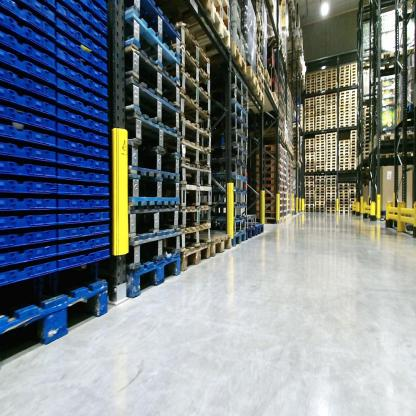pallet: (1, 278, 111, 362), (123, 14, 184, 87), (122, 74, 182, 136), (122, 44, 180, 108), (123, 250, 186, 302), (124, 0, 183, 51), (130, 160, 182, 213), (125, 228, 184, 274), (125, 106, 182, 152), (184, 7, 232, 56), (130, 202, 180, 243), (179, 22, 211, 85), (126, 141, 181, 177), (204, 40, 249, 79), (180, 108, 213, 154), (185, 48, 214, 98), (182, 67, 212, 113), (167, 221, 215, 249), (205, 141, 251, 170), (178, 180, 215, 211), (178, 156, 214, 187), (180, 91, 210, 128), (179, 196, 211, 230), (177, 241, 212, 269), (231, 86, 268, 110), (211, 114, 247, 138), (219, 101, 250, 128), (211, 213, 248, 235), (209, 173, 249, 193), (207, 157, 245, 178), (211, 201, 247, 223), (180, 143, 214, 166), (212, 129, 250, 149), (209, 185, 248, 203), (206, 230, 234, 255), (376, 48, 399, 74), (375, 131, 403, 150), (213, 1, 231, 30), (246, 63, 259, 94), (256, 142, 284, 156), (254, 148, 282, 162), (256, 126, 283, 138), (256, 206, 283, 218), (359, 52, 376, 71), (257, 3, 267, 35), (256, 183, 283, 194), (254, 197, 283, 207), (377, 149, 396, 164), (400, 42, 416, 59), (256, 177, 283, 187), (230, 231, 248, 246), (253, 73, 265, 95), (257, 158, 283, 168), (255, 172, 283, 181), (257, 192, 284, 201), (399, 1, 414, 17), (257, 165, 283, 174), (254, 205, 283, 213), (256, 33, 265, 58), (256, 64, 265, 88), (245, 211, 257, 229), (255, 54, 265, 75), (255, 14, 265, 35), (218, 1, 231, 16), (258, 218, 284, 225), (245, 226, 256, 242), (265, 67, 272, 89), (256, 27, 264, 45), (270, 94, 279, 110), (257, 44, 264, 64), (255, 224, 263, 235), (316, 119, 326, 127), (362, 151, 372, 158), (316, 86, 326, 93), (339, 64, 350, 70), (363, 118, 372, 125), (325, 132, 337, 137), (316, 102, 326, 108), (363, 128, 371, 135), (326, 174, 337, 179), (326, 177, 337, 182), (339, 139, 350, 144), (340, 68, 351, 73), (339, 76, 350, 81), (306, 78, 317, 83), (363, 143, 372, 149), (362, 107, 371, 113), (316, 133, 325, 139), (338, 186, 348, 191), (326, 185, 336, 190), (327, 97, 337, 102), (326, 83, 336, 88), (326, 80, 336, 85), (305, 99, 315, 104), (316, 106, 326, 111), (363, 123, 370, 130), (363, 132, 371, 138), (363, 115, 371, 121), (282, 148, 288, 156), (325, 201, 337, 205), (339, 84, 351, 88), (363, 140, 372, 145), (327, 123, 336, 128), (327, 77, 336, 82), (317, 76, 326, 81), (306, 72, 315, 77), (363, 156, 374, 160), (326, 184, 337, 188), (326, 189, 337, 193), (325, 198, 336, 202), (314, 175, 325, 179), (315, 152, 326, 156), (315, 169, 326, 173), (339, 71, 350, 75), (339, 73, 350, 77), (339, 91, 350, 95), (340, 97, 351, 101), (339, 100, 350, 104), (339, 103, 350, 107), (339, 115, 350, 119), (326, 117, 337, 121), (326, 93, 337, 97), (326, 86, 337, 90), (326, 71, 337, 75), (305, 89, 316, 93), (315, 101, 326, 105), (282, 192, 288, 199), (283, 167, 287, 177), (339, 199, 349, 203), (315, 207, 325, 211), (315, 201, 325, 205), (305, 167, 315, 171), (305, 161, 315, 165), (305, 138, 315, 142), (315, 154, 325, 158), (315, 160, 325, 164), (339, 164, 349, 168), (339, 152, 349, 156), (339, 106, 349, 110), (340, 110, 350, 114), (339, 112, 349, 116), (326, 105, 336, 109), (327, 69, 337, 73), (316, 71, 326, 75), (316, 73, 326, 77), (304, 106, 314, 110), (315, 127, 325, 131), (315, 122, 325, 126), (316, 115, 326, 119), (316, 95, 326, 99), (339, 211, 351, 214), (315, 185, 327, 188), (315, 182, 327, 185), (305, 175, 314, 179), (305, 187, 314, 191), (305, 201, 314, 205), (304, 207, 316, 210), (304, 210, 316, 213), (305, 144, 314, 148), (340, 158, 349, 162), (327, 126, 336, 130), (327, 111, 336, 115), (327, 75, 336, 79), (306, 83, 315, 87), (307, 76, 316, 80), (305, 112, 314, 116), (363, 136, 370, 141), (363, 112, 370, 117), (283, 216, 288, 223), (283, 211, 288, 218), (283, 205, 288, 212), (338, 183, 349, 186), (315, 146, 326, 149), (315, 149, 326, 152), (315, 166, 326, 169), (326, 139, 337, 142), (326, 148, 337, 151), (339, 147, 350, 150), (339, 144, 350, 147), (340, 94, 351, 97), (339, 119, 350, 122), (304, 126, 315, 129), (315, 113, 326, 116), (363, 149, 371, 153), (283, 159, 287, 167), (349, 189, 357, 193), (317, 83, 325, 87), (316, 98, 324, 102), (283, 200, 288, 206), (282, 187, 288, 192), (283, 181, 288, 187), (339, 205, 349, 208), (339, 208, 349, 211), (326, 193, 336, 196), (326, 210, 336, 213), (315, 196, 325, 199), (315, 193, 325, 196), (315, 190, 325, 193), (315, 179, 325, 182), (305, 170, 315, 173), (305, 158, 315, 161), (305, 153, 315, 156), (305, 150, 315, 153), (305, 147, 315, 150), (315, 138, 325, 141), (315, 158, 325, 161), (326, 136, 336, 139), (327, 143, 337, 146), (327, 145, 337, 148), (326, 160, 336, 163), (326, 163, 336, 166), (326, 168, 336, 171), (340, 82, 350, 85), (340, 122, 350, 125), (327, 115, 337, 118), (326, 109, 336, 112), (326, 103, 336, 106), (327, 100, 337, 103), (304, 98, 314, 101), (304, 123, 314, 126), (305, 129, 315, 132), (315, 120, 325, 123), (316, 110, 326, 113), (283, 174, 287, 181), (283, 156, 287, 163), (339, 190, 348, 193), (339, 193, 348, 196), (339, 196, 348, 199), (349, 196, 358, 199), (305, 179, 314, 182), (305, 184, 314, 187), (305, 191, 314, 194), (305, 196, 314, 199), (316, 143, 325, 146), (327, 151, 336, 154), (327, 154, 336, 157), (327, 157, 336, 160), (340, 168, 349, 171), (316, 80, 325, 83), (306, 86, 315, 89), (305, 118, 314, 121), (349, 208, 355, 212), (350, 199, 358, 202), (349, 193, 357, 196), (349, 184, 357, 187), (325, 196, 337, 198), (338, 203, 349, 205), (325, 205, 336, 207), (315, 211, 326, 213), (315, 164, 326, 166), (326, 142, 337, 144), (339, 80, 350, 82), (326, 121, 337, 123), (350, 202, 355, 206), (326, 182, 336, 184), (325, 208, 335, 210), (314, 205, 324, 207), (315, 199, 325, 201), (315, 188, 325, 190), (304, 205, 314, 207), (305, 165, 315, 167), (305, 156, 315, 158), (315, 141, 325, 143), (326, 166, 336, 168), (339, 156, 349, 158), (339, 150, 349, 152), (340, 125, 350, 127), (304, 110, 314, 112), (350, 211, 356, 214), (305, 182, 314, 184), (305, 194, 314, 196), (305, 199, 314, 201), (305, 142, 314, 144), (340, 162, 349, 164), (305, 104, 314, 106), (305, 116, 314, 118), (349, 187, 357, 189), (305, 121, 313, 123), (349, 206, 355, 208)
